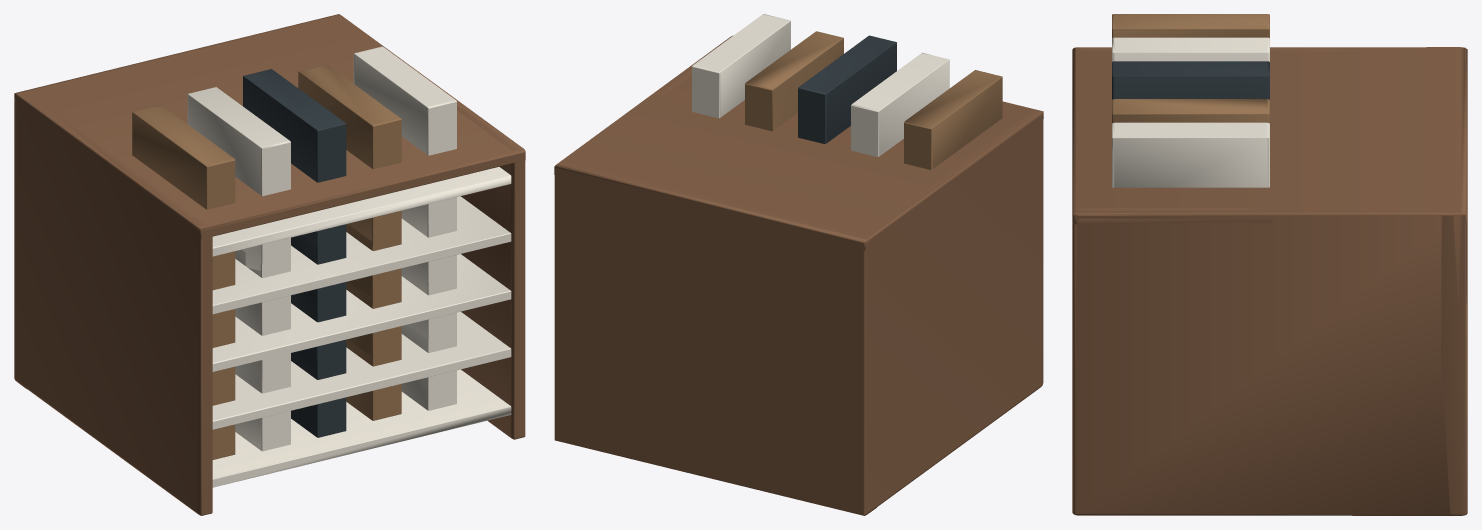
Rendered from shelf-17-2.lod.glb.
The picture shows the model from 3 angles, left to right: view 1: azimuth 30°, elevation 25°; view 2: azimuth 150°, elevation 25°; view 3: azimuth 270°, elevation 25°; orthographic projection. The views are drawn at different scales.
Parts seen in each view (by area): view 1: upholstery (×2), book (×2); view 2: upholstery (×2), book (×2); view 3: upholstery (×2), book (×2).
Boxes of the visible parts, x1,y1,x2,y2 form: upholstery (×2): (14, 14, 525, 515); book (×2): (132, 64, 401, 459); upholstery (×2): (554, 14, 1043, 515); book (×2): (745, 31, 1002, 169); upholstery (×2): (1072, 37, 1467, 515); book (×2): (1112, 14, 1269, 123).
Size of the model in its own units: 1 by 1 by 1.
